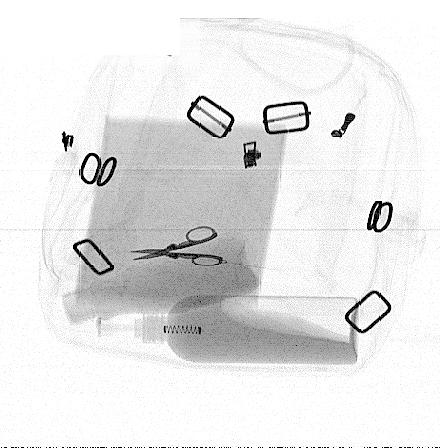Scissors: (129, 223, 223, 267)
